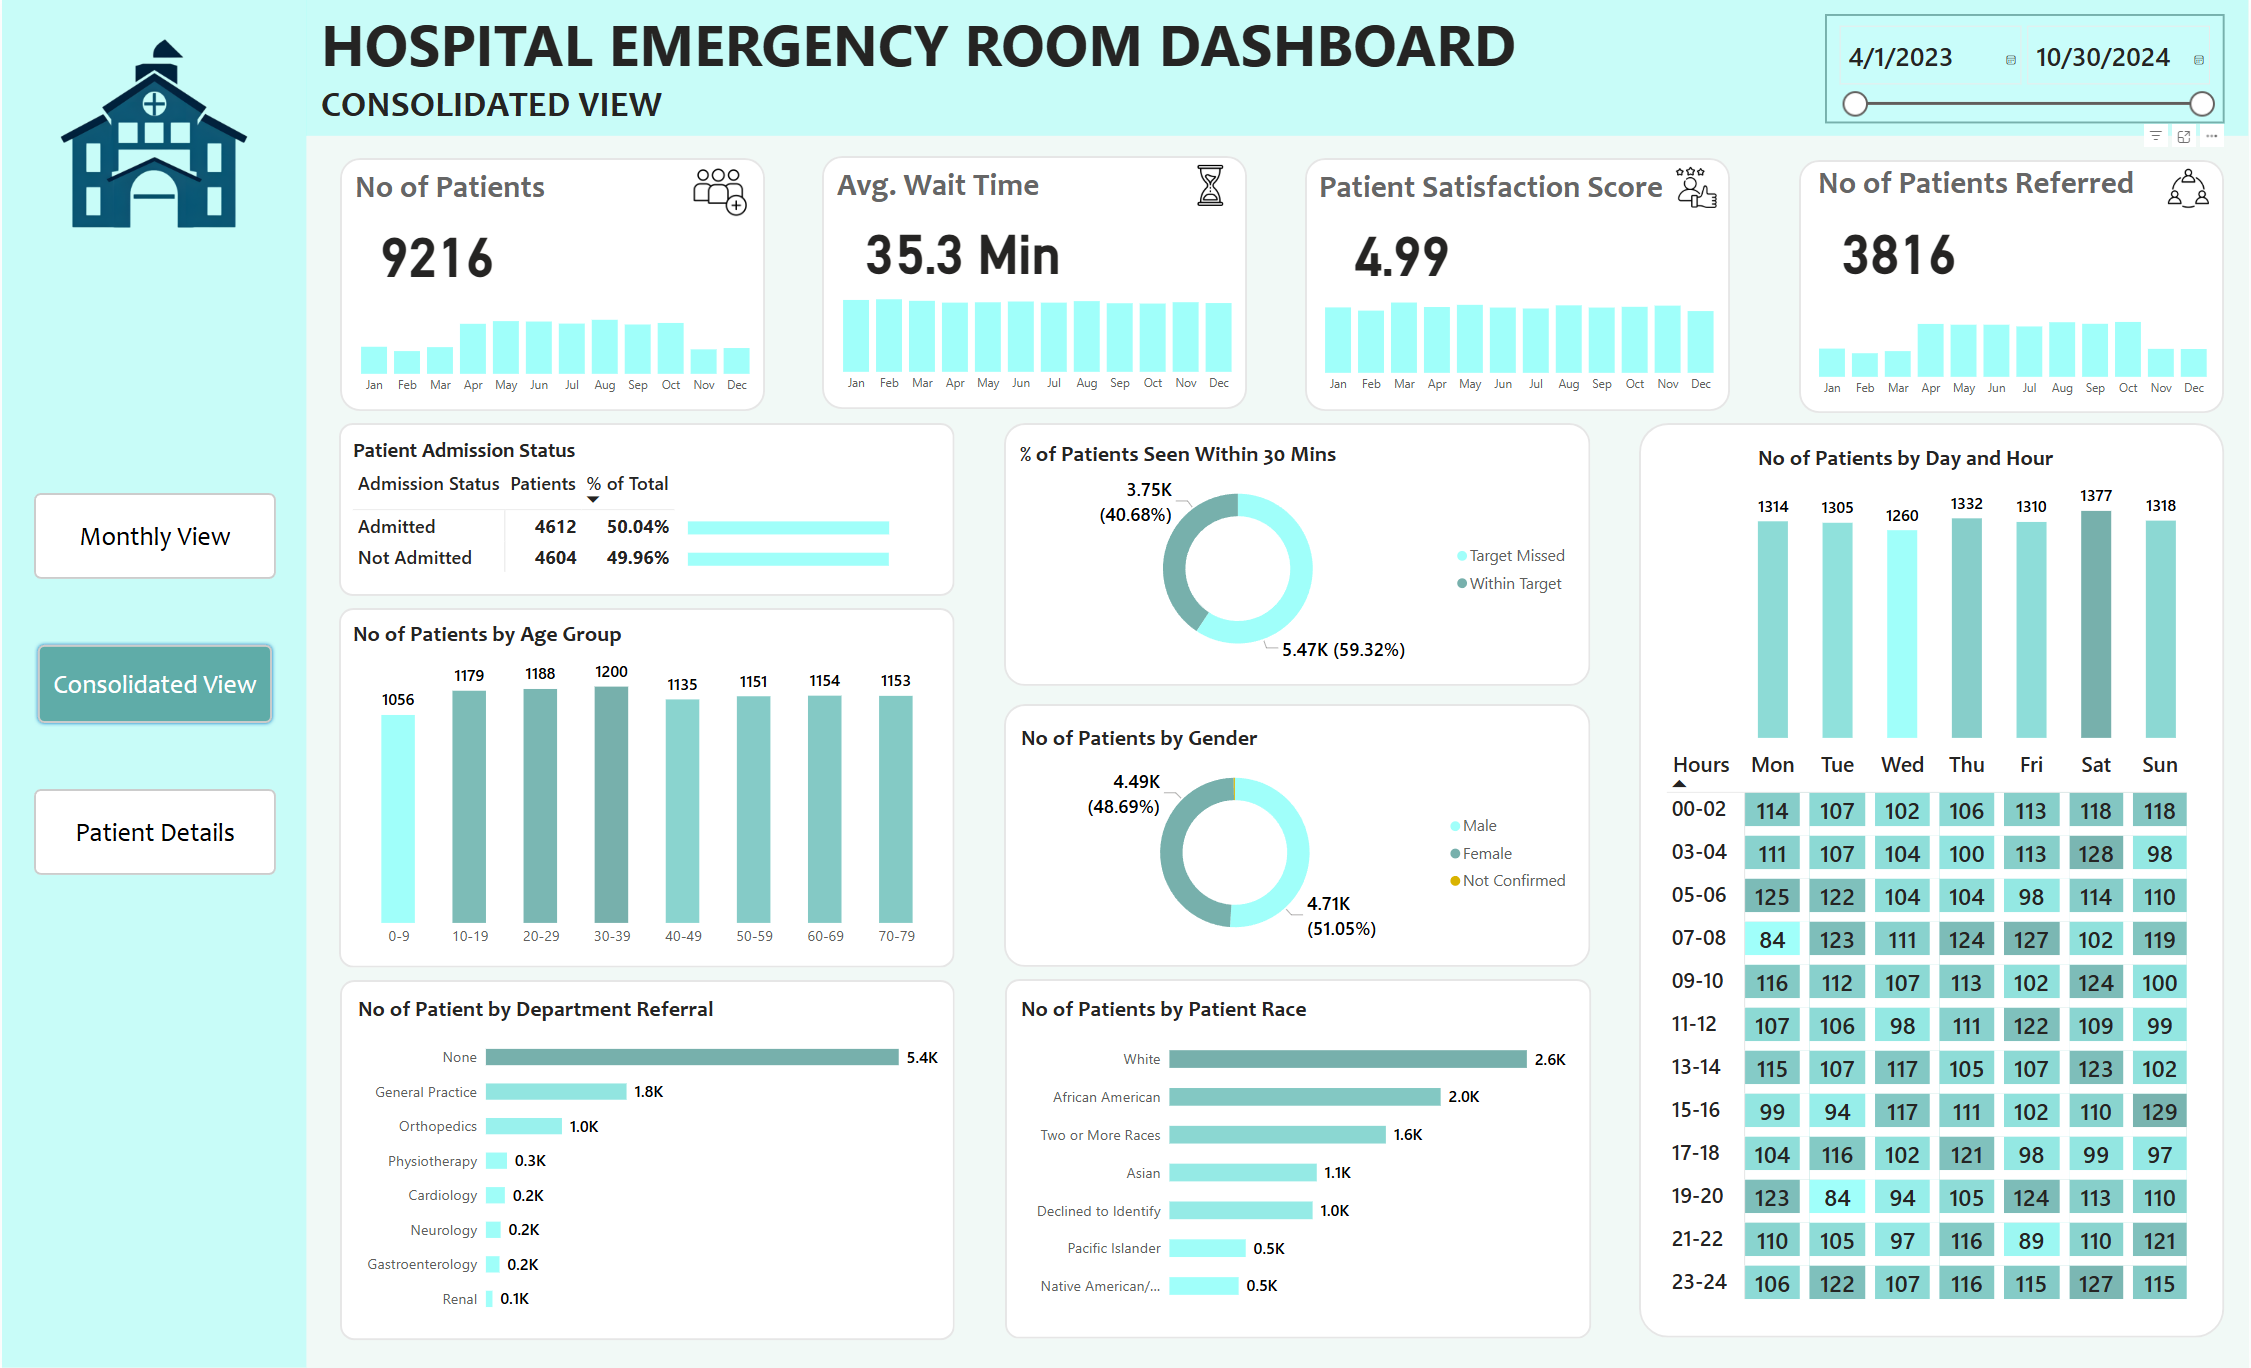

The page's visual inventory and layout, read from the dashboard file:
{"tool":"powerbi","page":{"name":"Consolidated View","canvas":[2300,1400],"ordinal":1},"visuals":[{"type":"shape","box":[0,0,311.5,1399.5],"z":0},{"type":"shape","box":[346,162,435,259],"z":1000},{"type":"shape","box":[839.7,160,435,259],"z":2000},{"type":"card","fields":{"Values":["Count(Hospital ER_Data.Patient Id)"]},"box":[356,217,178,80],"z":3000},{"type":"card","fields":{"Values":["Avg(Hospital ER_Data.Patient Waittime)","select"]},"box":[853.5,214,260,80],"z":4000},{"type":"shape","box":[1333.3,161.3,435,259],"z":5000},{"type":"textbox","box":[356,167,322,56],"z":6000},{"type":"textbox","box":[849.7,165,322,56],"z":7000},{"type":"card","fields":{"Values":["Avg(Hospital ER_Data.Patient Satisfaction Score)"]},"box":[1343.3,216.3,178,80],"z":8000},{"type":"columnChart","fields":{"Category":["Date Table.Month Name"],"Y":["Count(Hospital ER_Data.Patient Id)"]},"box":[348.6,287.5,435,125],"z":9000},{"type":"columnChart","fields":{"Category":["Date Table.Month Name"],"Y":["Avg(Hospital ER_Data.Patient Waittime)"]},"box":[842.3,285.6,435,125],"z":10000},{"type":"shape","box":[1839,164,435,259],"z":11000},{"type":"shape","box":[311.5,0,1987.7,139.5],"z":12000},{"type":"textbox","box":[1342.2,167.3,385.6,55.8],"z":13000},{"type":"columnChart","fields":{"Y":["Avg(Hospital ER_Data.Patient Satisfaction Score)"],"Category":["Date Table.Month Name"]},"box":[1335.9,286.8,435,125],"z":14000},{"type":"card","fields":{"Values":["Hospital ER_Data.No of Patients Referred"]},"box":[1854,214,174,80],"z":15000},{"type":"textbox","box":[321,0,1292,109],"z":16000},{"type":"textbox","box":[1853,163,352,56],"z":17000},{"type":"textbox","box":[321.3,77.6,377.1,75.2],"z":18000},{"type":"shape","box":[1025.8,720.2,600.2,269.2],"z":18000,"group":"g1"},{"type":"columnChart","fields":{"Y":["Hospital ER_Data.No of Patients Referred"],"Category":["Date Table.Month Name"]},"box":[1841,291,434.1,125],"z":19000},{"type":"slicer","fields":{"Values":["Date Table.Date"]},"box":[1866,14.5,408.6,111.5],"z":20000},{"type":"shape","box":[345,433.2,630,177],"z":21000},{"type":"shape","box":[345,622.5,630,368],"z":22000},{"type":"shape","box":[345.6,1002.7,629.3,368.6],"z":23000},{"type":"shape","box":[1025.2,432.9,600.2,269.2],"z":24000},{"type":"donutChart","title":"No of Patients by Gender","fields":{"Category":["Hospital ER_Data.Patient Gender"],"Y":["Count(Hospital ER_Data.Patient Id)"]},"box":[1038.2,740.8,577,235],"z":24000,"group":"g1"},{"type":"pivotTable","title":"Patient Admission Status","fields":{"Rows":["Hospital ER_Data.Admission Status"],"Values":["Count(Hospital ER_Data.Patient Id)","Divide(Count(Hospital ER_Data.Patient Id), ScopedEval(Count(Hospital ER_Data.Patient Id), []))"]},"box":[354.5,447.3,435,164],"z":25000},{"type":"shape","box":[1027,1001.5,600,368.2],"z":25000,"group":"g2"},{"type":"clusteredBarChart","fields":{"Category":["Hospital ER_Data.Admission Status"],"Y":["Count(Hospital ER_Data.Patient Id)"]},"box":[697,505,278,98.2],"z":26000},{"type":"clusteredBarChart","title":"No of Patients by Patient Race","fields":{"Y":["Count(Hospital ER_Data.Patient Id)"],"Category":["Hospital ER_Data.Patient Race"]},"box":[1038.8,1018,577.1,328.6],"z":26000,"group":"g2"},{"type":"clusteredColumnChart","title":"No of Patients by Age Group","fields":{"Category":["Hospital ER_Data.Patient Age Groups"],"Y":["Count(Hospital ER_Data.Patient Id)"]},"box":[354,635,614,344],"z":27000},{"type":"clusteredBarChart","title":"No of Patient by Department Referral","fields":{"Category":["Hospital ER_Data.Department Referral"],"Y":["Count(Hospital ER_Data.Patient Id)"]},"box":[358.9,1018.5,603.8,339.5],"z":28000},{"type":"donutChart","title":"% of Patients Seen Within 30 Mins","fields":{"Category":["Hospital ER_Data.Waittime Status"],"Y":["Count(Hospital ER_Data.Patient Id)"]},"box":[1036.7,449.8,577.1,235.2],"z":29000},{"type":"shape","box":[1675.7,432.9,599,936],"z":30000},{"type":"group","id":"g1","title":"Group 2","box":[1025.8,720.2,600.2,269.2],"z":31000},{"type":"group","id":"g2","title":"Group 3","box":[1027,1001.5,599,367.4],"z":32000},{"type":"pivotTable","fields":{"Rows":["Hospital ER_Data.Waittime Interval"],"Columns":["Date Table.Day Name"],"Values":["Count(Hospital ER_Data.Patient Id)"]},"box":[1698.7,761.4,556.5,585.6],"z":33000},{"type":"columnChart","title":"No of Patients by Day and Hour","fields":{"Category":["Date Table.Day Name"],"Y":["Count(Hospital ER_Data.Patient Id)"]},"box":[1792,454.7,440.1,306.8],"z":34000},{"type":"image","box":[47.3,25.5,215.8,223.1],"z":35000},{"type":"image","box":[1208.8,163.7,57,52.1],"z":36000},{"type":"image","box":[698.4,162.5,74,67.9],"z":37000},{"type":"image","box":[1706,166.1,55.8,52.1],"z":38000},{"type":"image","box":[2211.6,164.9,52.1,55.8],"z":39000},{"type":"actionButton","box":[32.3,504.1,247.6,87.9],"z":39001},{"type":"actionButton","box":[32.3,655.7,247.6,87.9],"z":39002},{"type":"actionButton","box":[32.3,807.3,247.6,87.9],"z":39003}]}

Visuals, with their boxes in screenshot pixels (x1, y1, x2, y2), scaled from the page's 2300x1400 canvas onto the 2251x1368 screenshot:
shape: 0,0,305,1367
shape: 339,158,764,411
shape: 822,156,1248,409
card - Count(Hospital ER_Data.Patient Id): 348,212,523,290
card - Avg(Hospital ER_Data.Patient Waittime) x select: 835,209,1090,287
shape: 1305,158,1731,411
textbox: 348,163,664,218
textbox: 832,161,1147,216
card - Avg(Hospital ER_Data.Patient Satisfaction Score): 1315,211,1489,290
columnChart - Date Table.Month Name x Count(Hospital ER_Data.Patient Id): 341,281,767,403
columnChart - Date Table.Month Name x Avg(Hospital ER_Data.Patient Waittime): 824,279,1250,401
shape: 1800,160,2226,413
shape: 305,0,2250,136
textbox: 1314,163,1691,218
columnChart - Avg(Hospital ER_Data.Patient Satisfaction Score) x Date Table.Month Name: 1307,280,1733,402
card - Hospital ER_Data.No of Patients Referred: 1815,209,1985,287
textbox: 314,0,1579,107
textbox: 1814,159,2158,214
textbox: 314,76,684,149
shape: 1004,704,1591,967
columnChart - Hospital ER_Data.No of Patients Referred x Date Table.Month Name: 1802,284,2227,406
slicer - Date Table.Date: 1826,14,2226,123
shape: 338,423,954,596
shape: 338,608,954,968
shape: 338,980,954,1340
shape: 1003,423,1591,686
"No of Patients by Gender" donutChart: 1016,724,1581,953
"Patient Admission Status" pivotTable: 347,437,773,597
shape: 1005,979,1592,1338
clusteredBarChart - Hospital ER_Data.Admission Status x Count(Hospital ER_Data.Patient Id): 682,493,954,589
"No of Patients by Patient Race" clusteredBarChart: 1017,995,1581,1316
"No of Patients by Age Group" clusteredColumnChart: 346,620,947,957
"No of Patient by Department Referral" clusteredBarChart: 351,995,942,1327
"% of Patients Seen Within 30 Mins" donutChart: 1015,440,1579,669
shape: 1640,423,2226,1338
"Group 2" group: 1004,704,1591,967
"Group 3" group: 1005,979,1591,1338
pivotTable - Hospital ER_Data.Waittime Interval x Date Table.Day Name: 1663,744,2207,1316
"No of Patients by Day and Hour" columnChart: 1754,444,2185,744
image: 46,25,257,243
image: 1183,160,1239,211
image: 684,159,756,225
image: 1670,162,1724,213
image: 2164,161,2215,216
actionButton: 32,493,274,578
actionButton: 32,641,274,727
actionButton: 32,789,274,875
